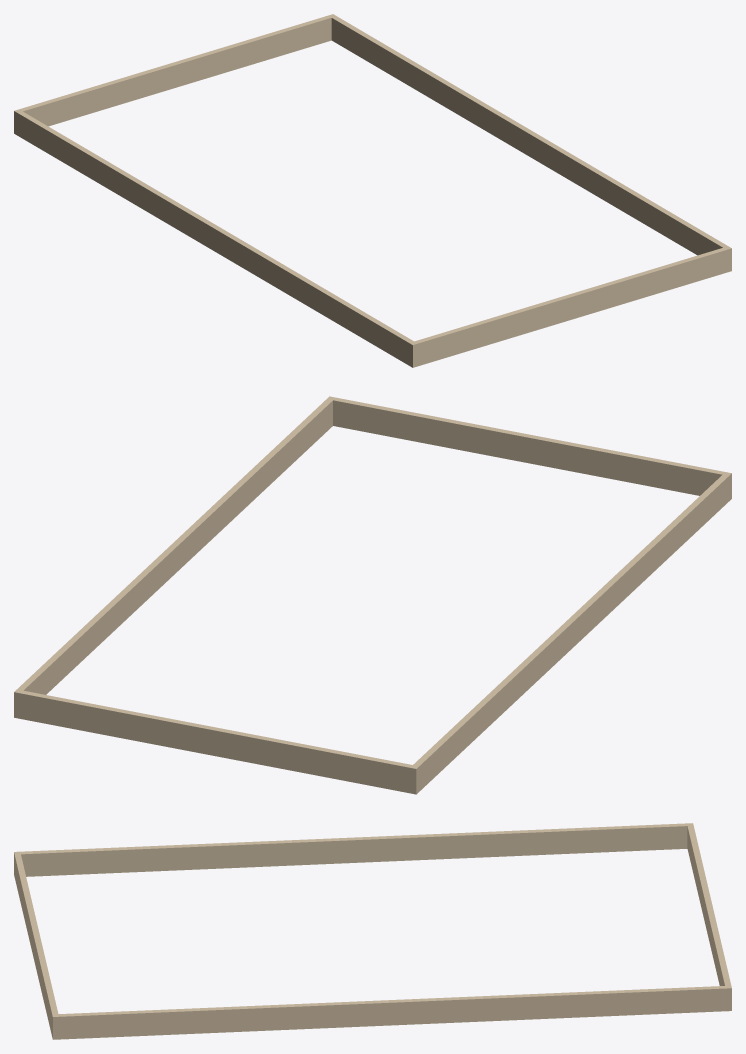
3 renders of one model, top to bottom at view 1: azimuth 30°, elevation 25°; view 2: azimuth 150°, elevation 25°; view 3: azimuth 270°, elevation 25°, orthographic. The views are drawn at different scales.
Visible parts, largest first — view 1: SM_9ecea55d9f75e79e8593; view 2: SM_9ecea55d9f75e79e8593; view 3: SM_9ecea55d9f75e79e8593.
Part boxes in pixels (x1=…): SM_9ecea55d9f75e79e8593: x1=14, y1=14, x2=731, y2=367; SM_9ecea55d9f75e79e8593: x1=14, y1=396, x2=731, y2=794; SM_9ecea55d9f75e79e8593: x1=14, y1=823, x2=731, y2=1039.
Bounding box in the file's own units: 13.07 × 20.44 × 0.715.
